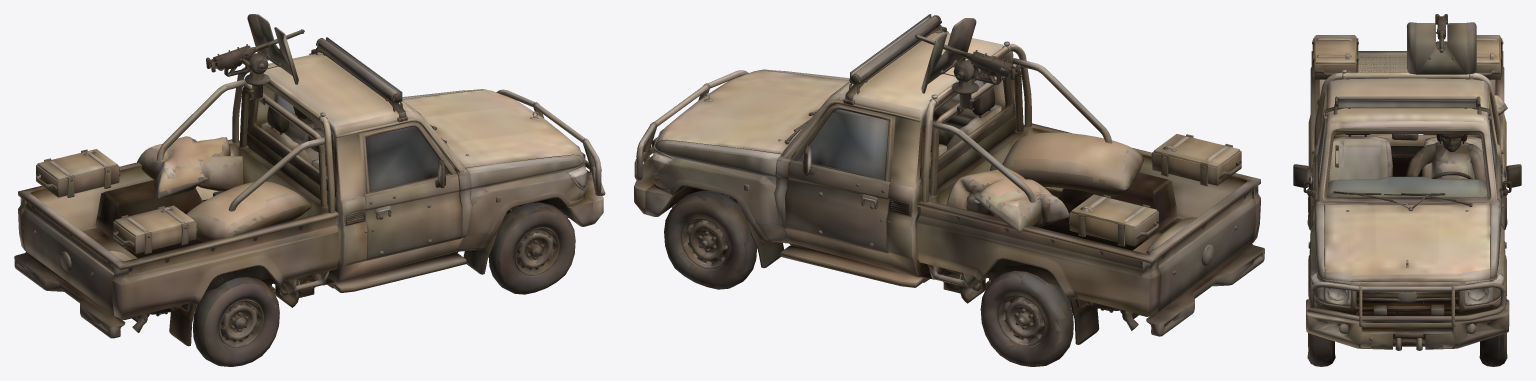
File: ride_bantai.glb
3 renders of one model, left to right at view 1: azimuth 30°, elevation 25°; view 2: azimuth 150°, elevation 25°; view 3: azimuth 270°, elevation 25°, orthographic. The views are drawn at different scales.
Parts seen in each view (by area): view 1: tripo_node_9fa15ee3-09dc-4cf1-8eda-f9cc61b7b134; view 2: tripo_node_9fa15ee3-09dc-4cf1-8eda-f9cc61b7b134; view 3: tripo_node_9fa15ee3-09dc-4cf1-8eda-f9cc61b7b134.
Part boxes in pixels (left/top/right/bottom): tripo_node_9fa15ee3-09dc-4cf1-8eda-f9cc61b7b134: left=14, top=14, right=605, bottom=366; tripo_node_9fa15ee3-09dc-4cf1-8eda-f9cc61b7b134: left=634, top=14, right=1264, bottom=366; tripo_node_9fa15ee3-09dc-4cf1-8eda-f9cc61b7b134: left=1293, top=14, right=1521, bottom=366.
Bounding box in the file's own units: 0.9995 × 0.5025 × 0.4155.
1 material, 1 textured.
